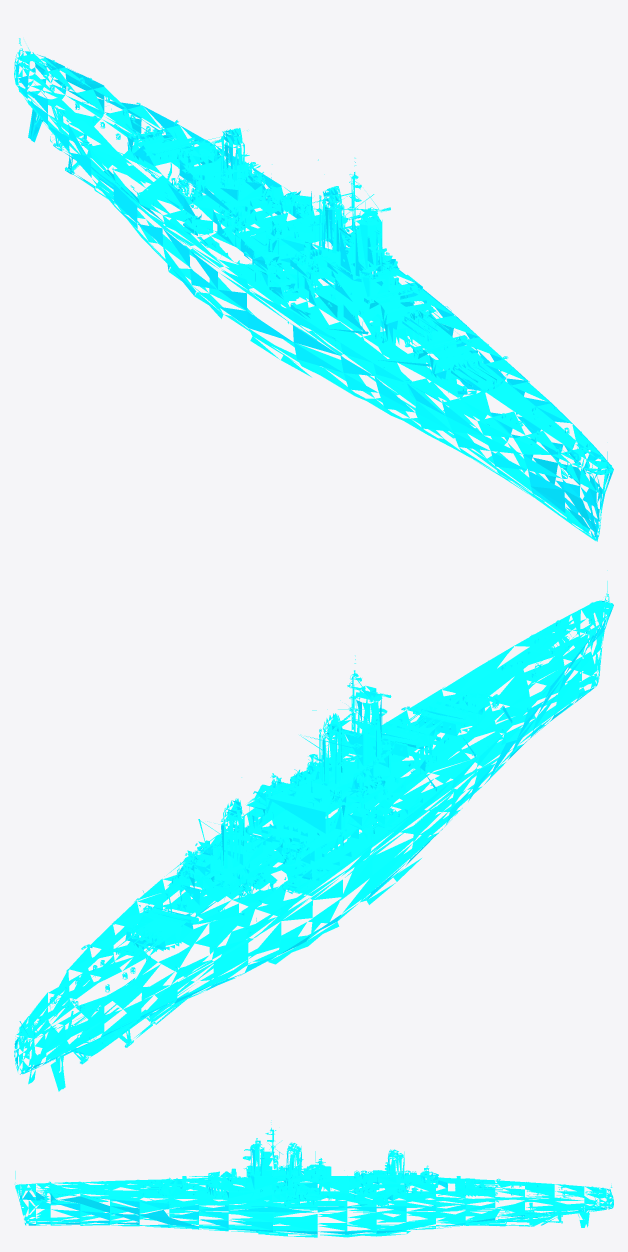
File: PHSC720.glb
3 renders of one model, top to bottom at view 1: azimuth 30°, elevation 25°; view 2: azimuth 150°, elevation 25°; view 3: azimuth 270°, elevation 25°, orthographic. The views are drawn at different scales.
Visible parts, largest first — view 1: hull, turret; view 2: hull, turret; view 3: hull, turret.
Boxes of the visible parts, x1,y1,x2,y2 form: hull: [14, 38, 613, 541]; turret: [114, 118, 497, 386]; hull: [14, 570, 613, 1091]; turret: [114, 655, 497, 956]; hull: [14, 1129, 613, 1237]; turret: [139, 1120, 503, 1205].
Bounding box in the file's own units: 1.87 × 2.93 × 15.18.
